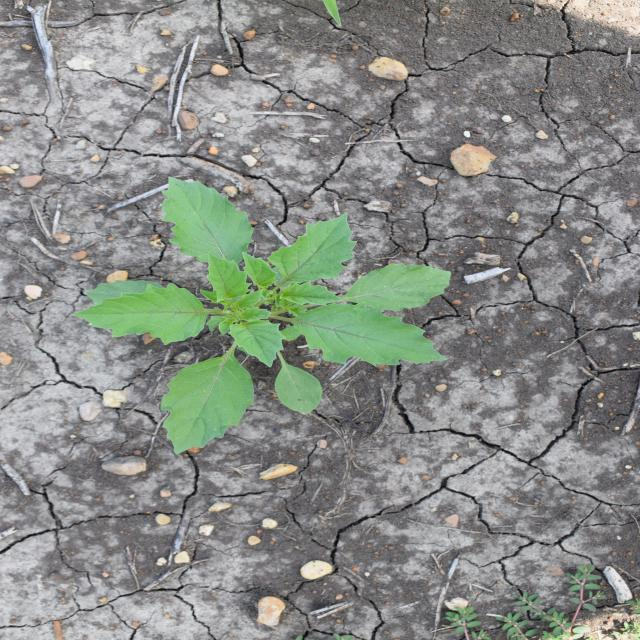CutleafGroundcherry: (67, 175, 456, 456)
SpottedSpurge: (446, 563, 638, 639)
